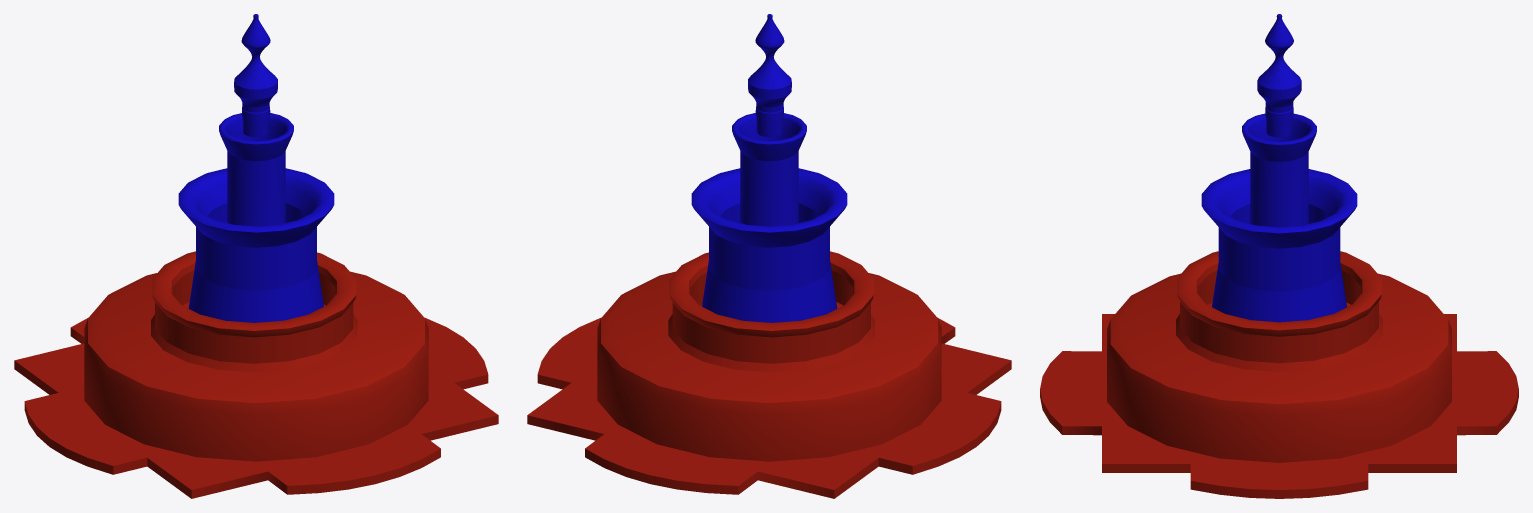
The model's file is Fountain.fbx.
The picture shows the model from 3 angles, left to right: view 1: azimuth 30°, elevation 25°; view 2: azimuth 150°, elevation 25°; view 3: azimuth 270°, elevation 25°; orthographic projection.
Visible parts, largest first — view 1: Base_Fountain, Upper_Fountain; view 2: Base_Fountain, Upper_Fountain; view 3: Base_Fountain, Upper_Fountain.
Part boxes in pixels (x1=…): Base_Fountain: x1=14, y1=251, x2=498, y2=498; Upper_Fountain: x1=178, y1=14, x2=334, y2=322; Base_Fountain: x1=527, y1=251, x2=1011, y2=498; Upper_Fountain: x1=691, y1=14, x2=847, y2=322; Base_Fountain: x1=1040, y1=251, x2=1518, y2=498; Upper_Fountain: x1=1201, y1=14, x2=1357, y2=322.
Bounding box in the file's own units: 5.39 × 4.76 × 5.39.
